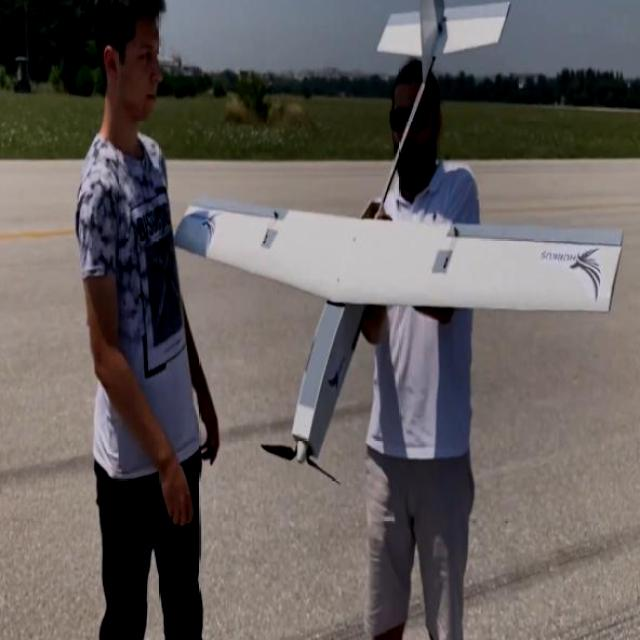plane: (172, 0, 625, 483)
